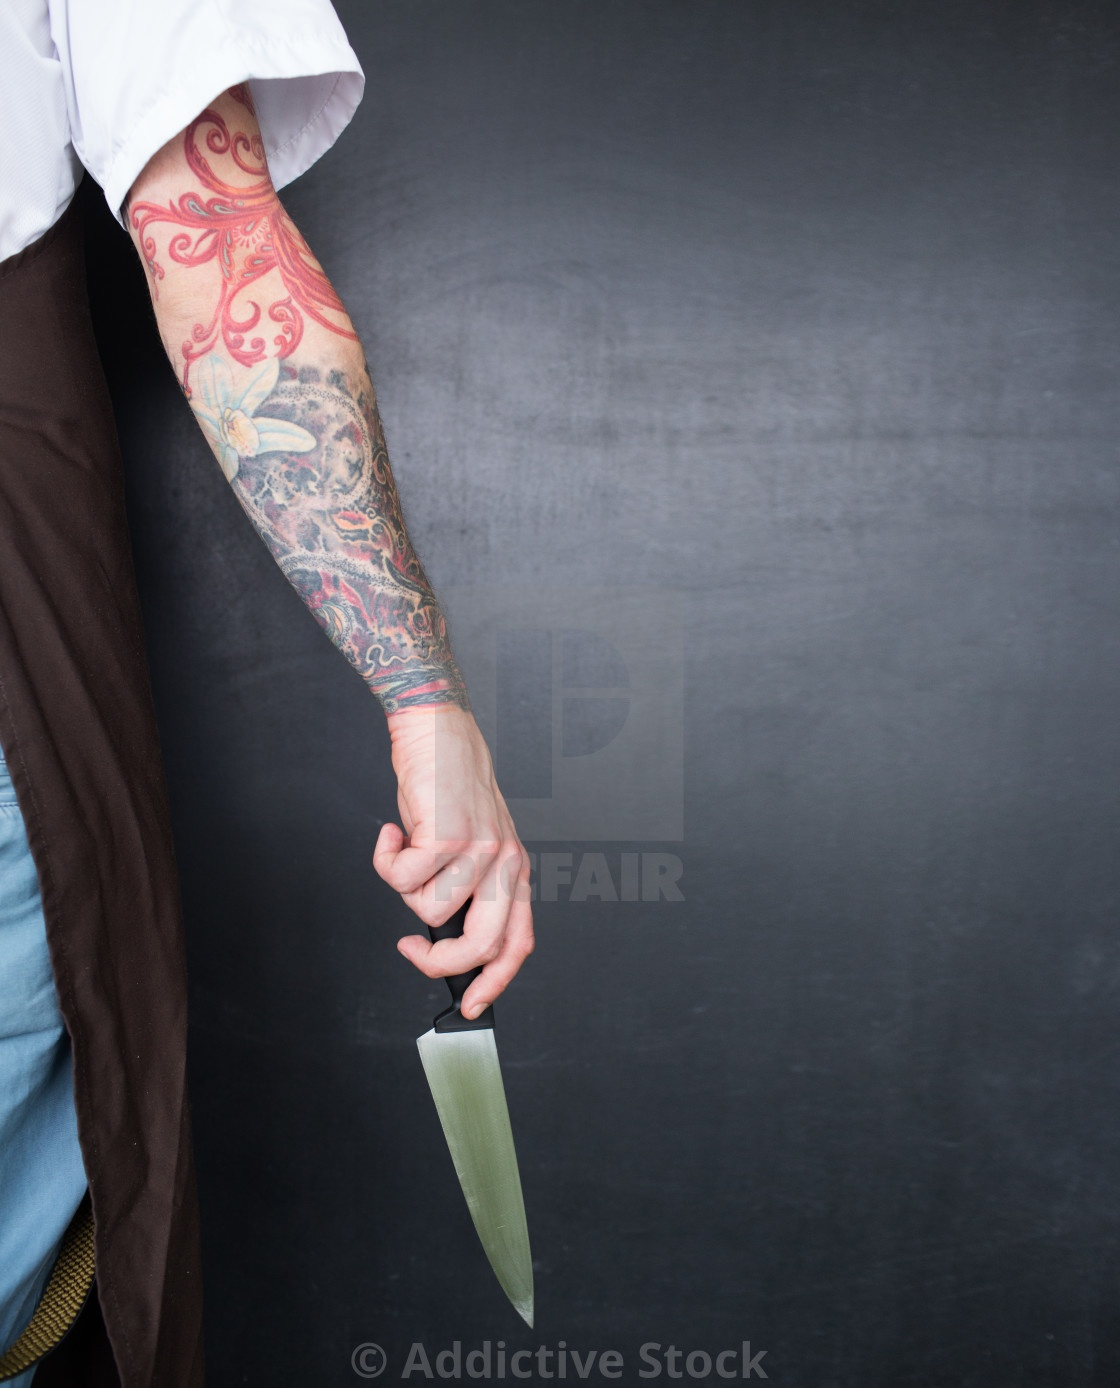knife: (416, 880, 536, 1332)
